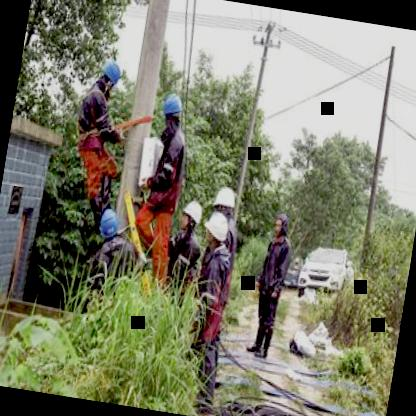helmet: (156, 88, 189, 136), (210, 182, 242, 226), (201, 206, 231, 247), (176, 198, 204, 240), (96, 206, 124, 246), (95, 58, 122, 99)
